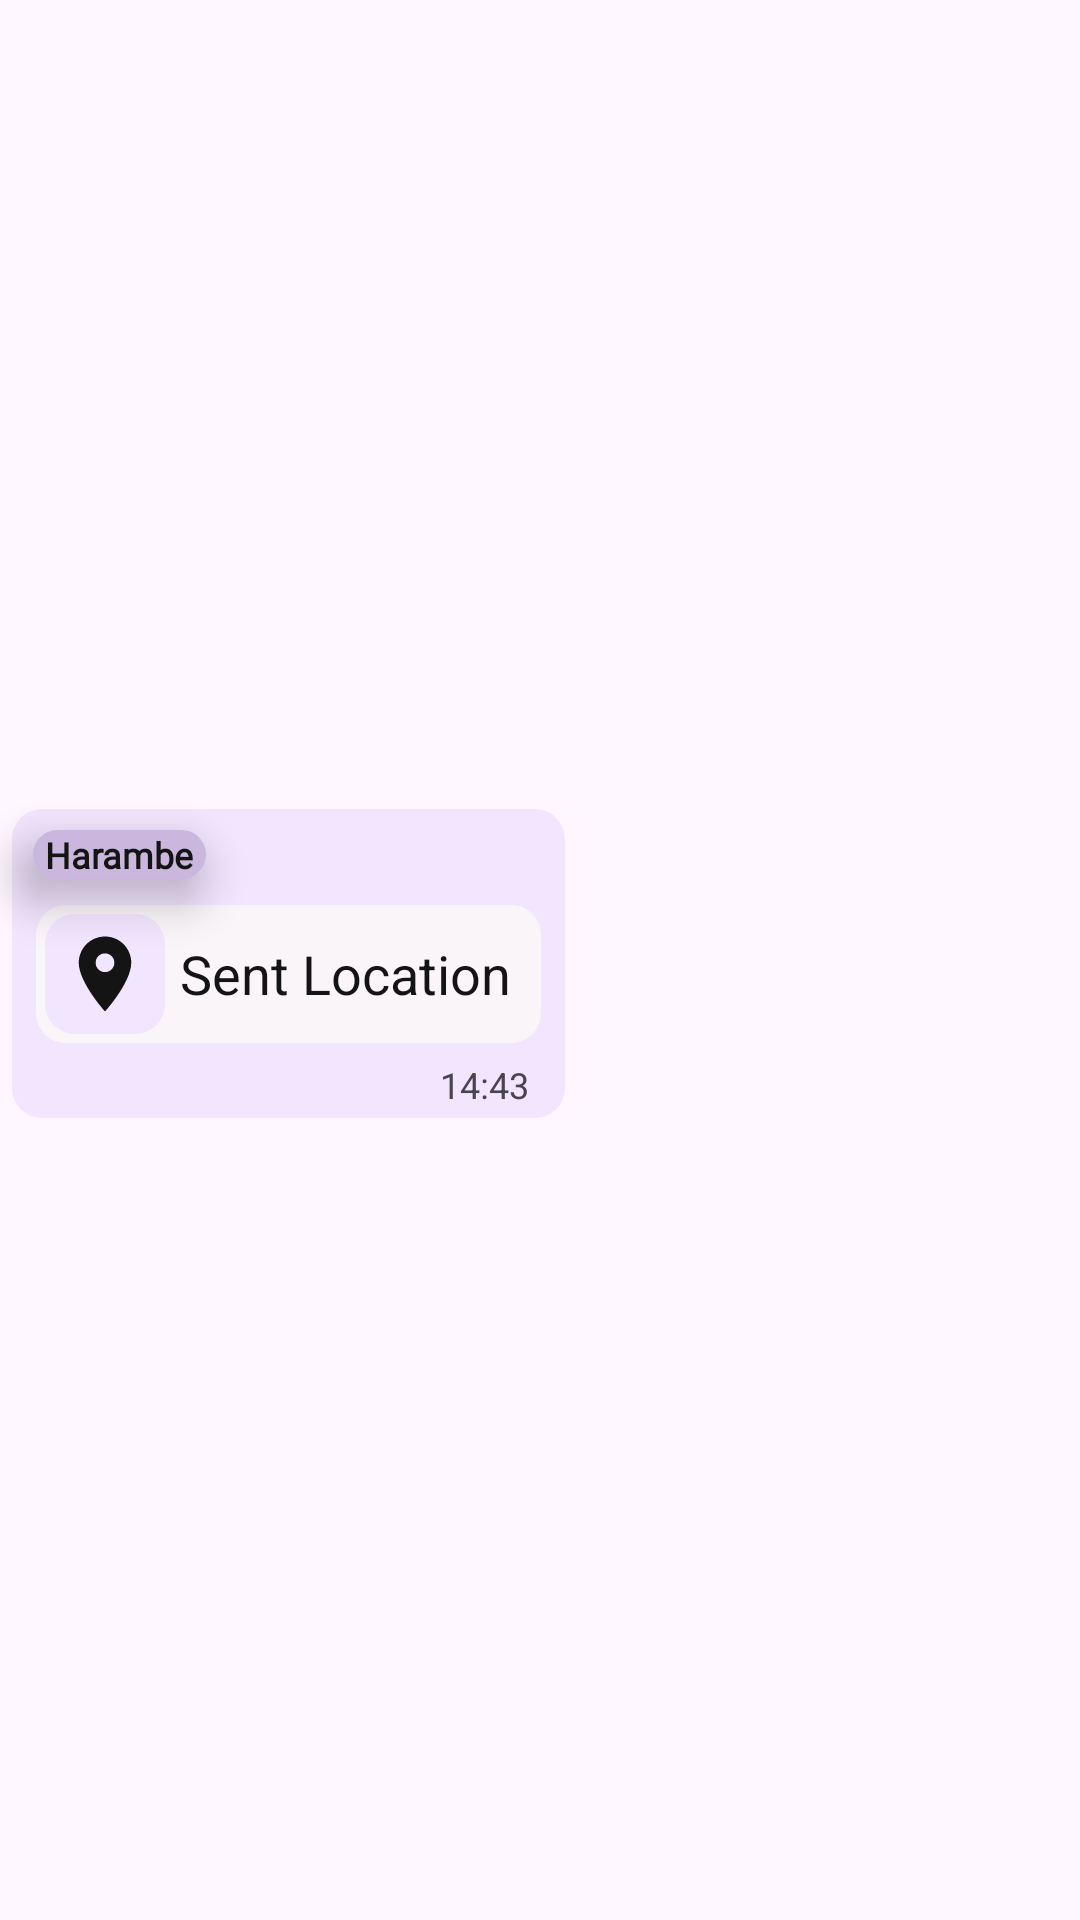

Where to tap for icons on this 1080*1920 app screen, as (x=x, y=y):
location on: (x=105, y=974)
